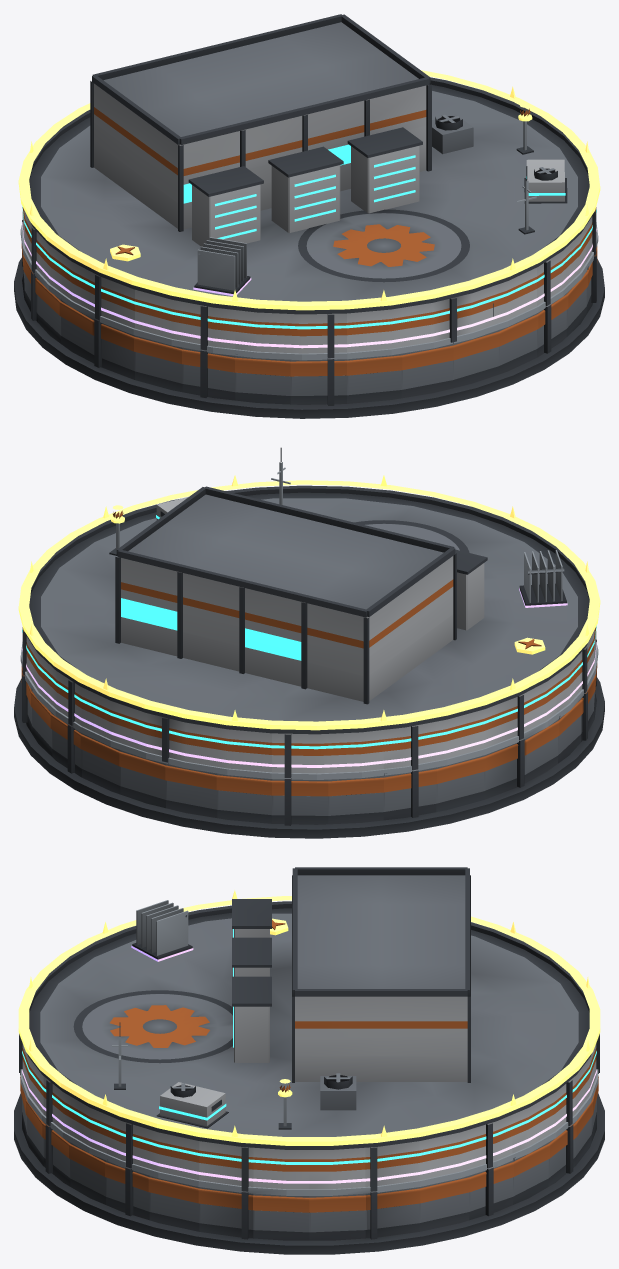
The model's file is battery_plant_m_far.glb.
3 renders of one model, top to bottom at view 1: azimuth 30°, elevation 25°; view 2: azimuth 150°, elevation 25°; view 3: azimuth 270°, elevation 25°, orthographic.
Parts seen in each view (by area): view 1: Roof, Base, L5, L2, L4, L3; view 2: Roof, Base, L5, L2, L4, L3; view 3: Roof, Base, L5, L4, L2, L3.
Boxes of the visible parts, x1,y1,x2,y2 form: Roof: (22, 14, 596, 358); Base: (14, 220, 604, 418); L5: (18, 70, 600, 310); L2: (20, 166, 598, 360); L4: (22, 222, 596, 348); L3: (22, 159, 596, 329); Roof: (22, 485, 596, 777); Base: (14, 639, 604, 838); L5: (18, 475, 600, 730); L2: (20, 447, 598, 779); L4: (22, 550, 596, 767); L3: (22, 496, 596, 749); Roof: (19, 867, 599, 1191); Base: (14, 1073, 604, 1254); L5: (18, 890, 600, 1145); L4: (22, 900, 596, 1183); L2: (20, 1022, 598, 1195); L3: (22, 1051, 596, 1164).
Size of the model in its own units: 14.75 by 5.36 by 14.75.
